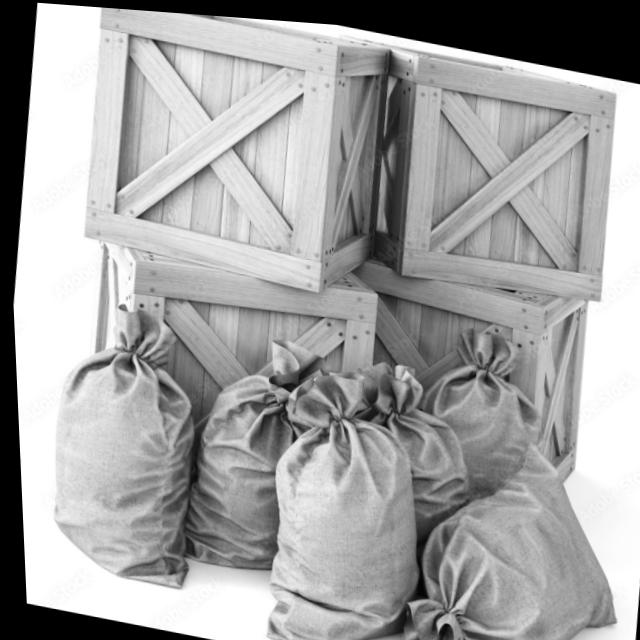sack: (382, 410, 632, 640), (29, 291, 215, 590), (247, 352, 440, 640), (168, 316, 336, 581), (332, 348, 483, 546), (404, 312, 551, 501)
